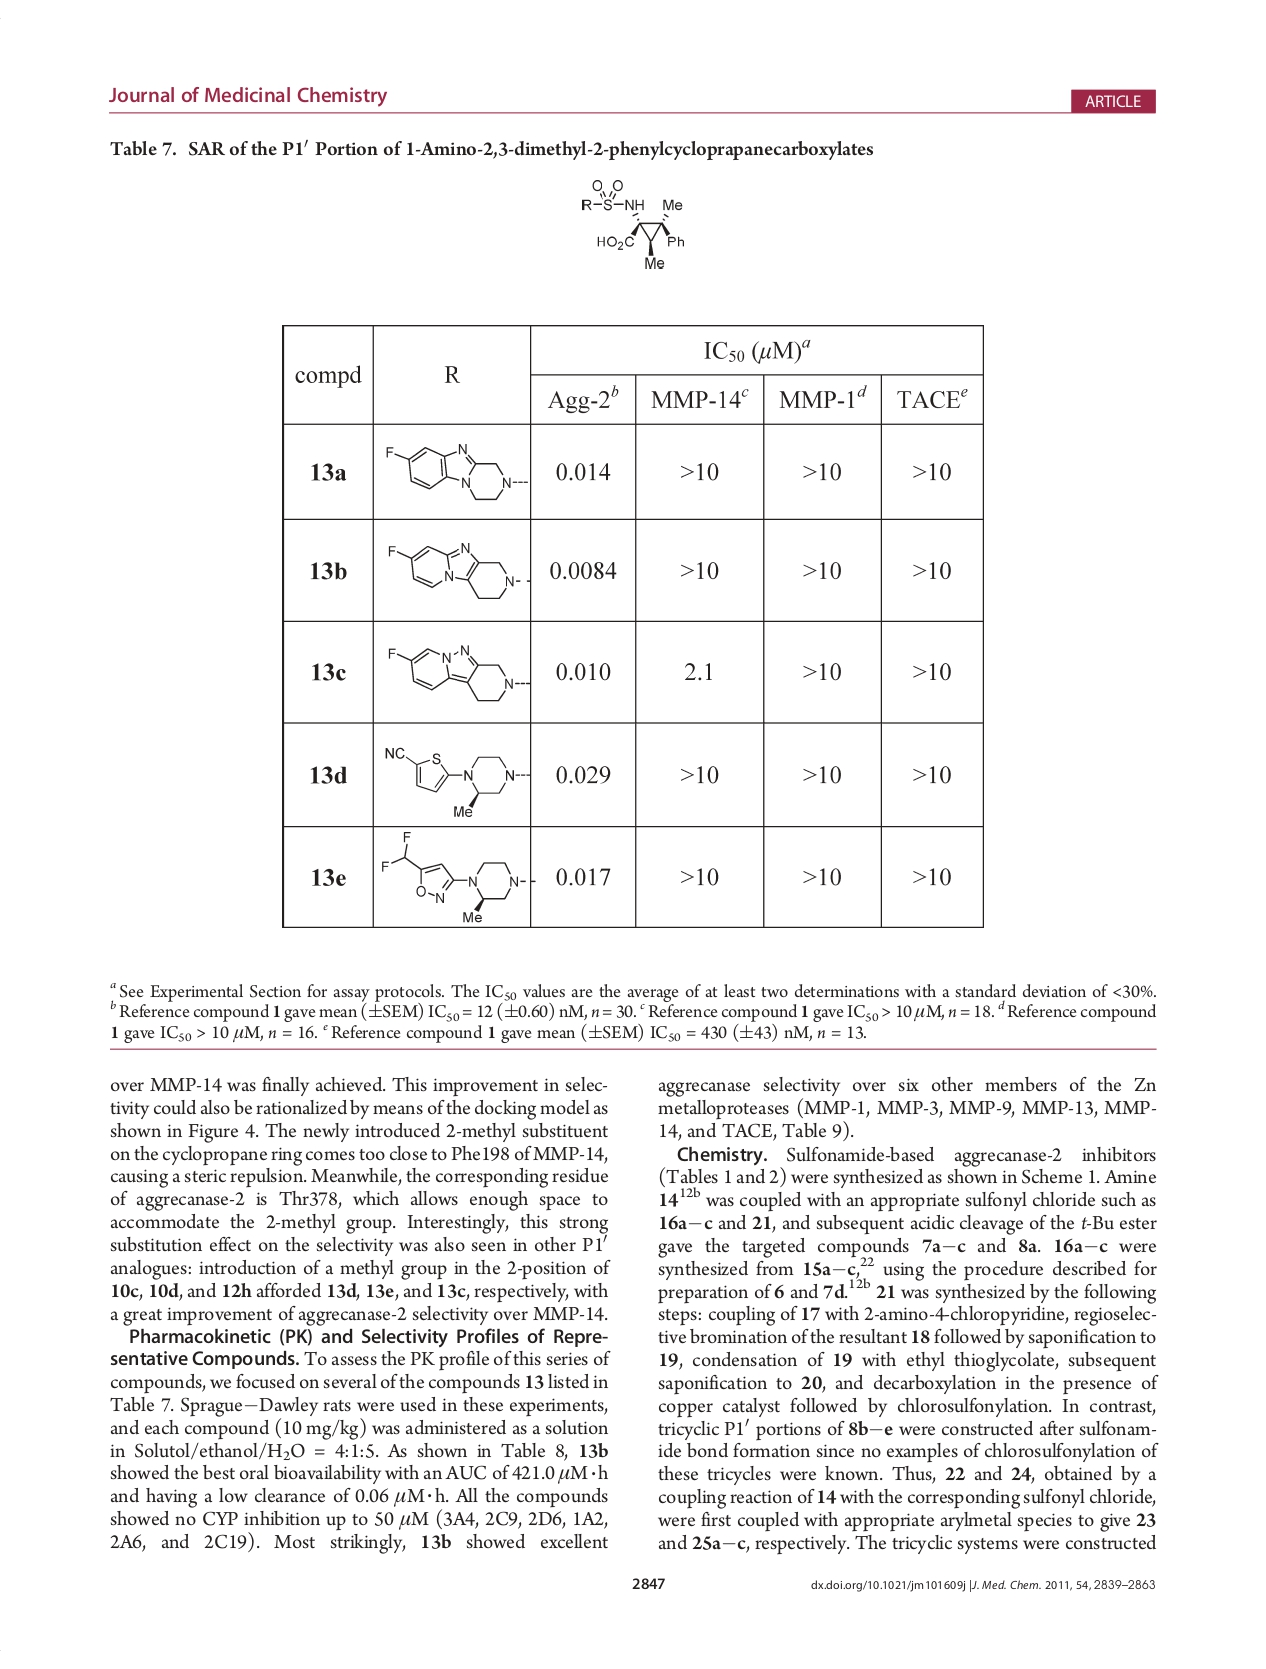exist_molecular: (379, 829, 528, 923), (382, 742, 529, 821), (576, 178, 688, 274), (382, 434, 529, 505), (382, 537, 531, 602), (387, 638, 529, 705)
